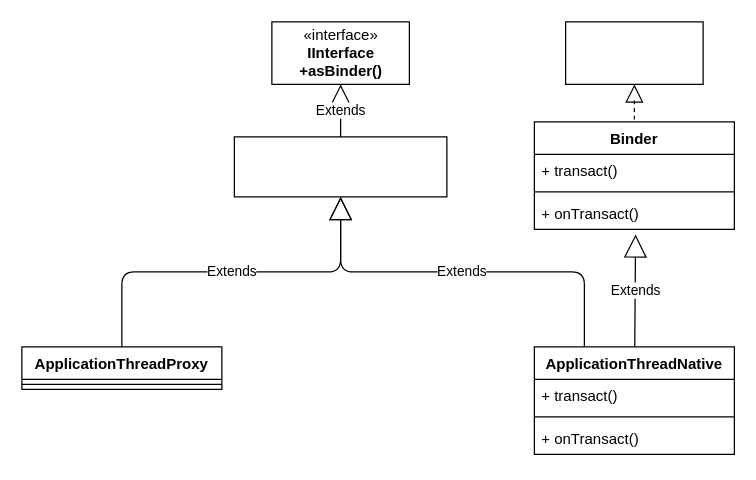
Image size: 756x480. Some labels were removed from this diagram. Each missing label, with the centre of its shape:
«interface» IApplicationThread +asBinder(): the point at 340,166
«interface» IBinder +transact(): the point at 633,52
